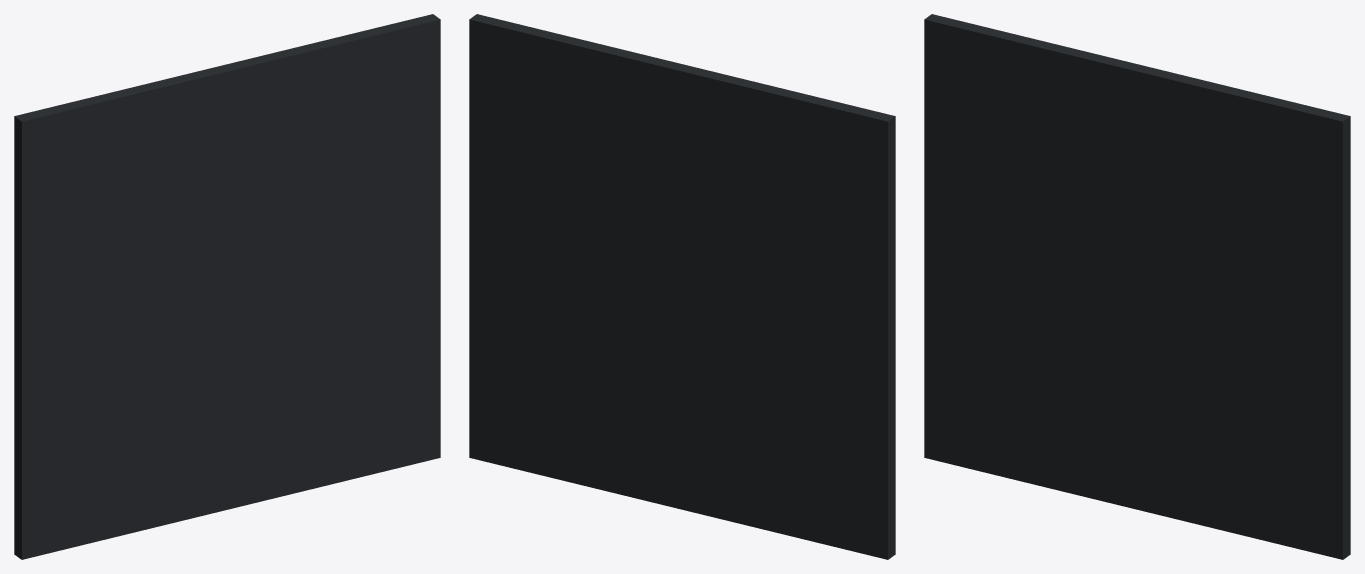
Rendered from DockBottom.obj.
3 views of the same model, side by side, from view 1: azimuth 30°, elevation 25°; view 2: azimuth 150°, elevation 25°; view 3: azimuth 330°, elevation 25° (orthographic).
Size of the model in its own units: 32 by 32 by 1.
Materials: 1 (1 with a texture image).
